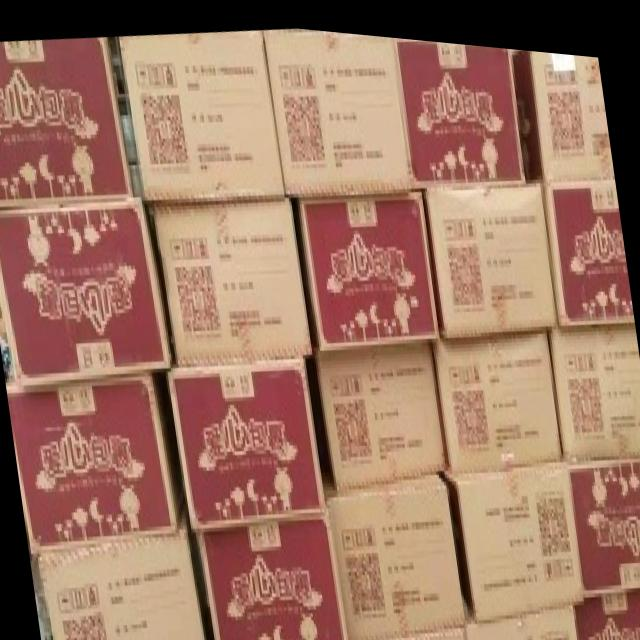box: (0, 198, 171, 389), (446, 446, 640, 614), (7, 369, 184, 553), (166, 349, 329, 528), (119, 25, 287, 198), (154, 192, 313, 361), (325, 462, 466, 640), (264, 25, 412, 188), (299, 180, 442, 348), (0, 35, 135, 207), (423, 175, 558, 333), (37, 518, 206, 640), (394, 30, 526, 184), (196, 509, 347, 640), (315, 333, 448, 480), (432, 322, 565, 464), (542, 167, 635, 318), (512, 39, 615, 175), (548, 313, 640, 454), (466, 579, 640, 640), (351, 615, 469, 640)
